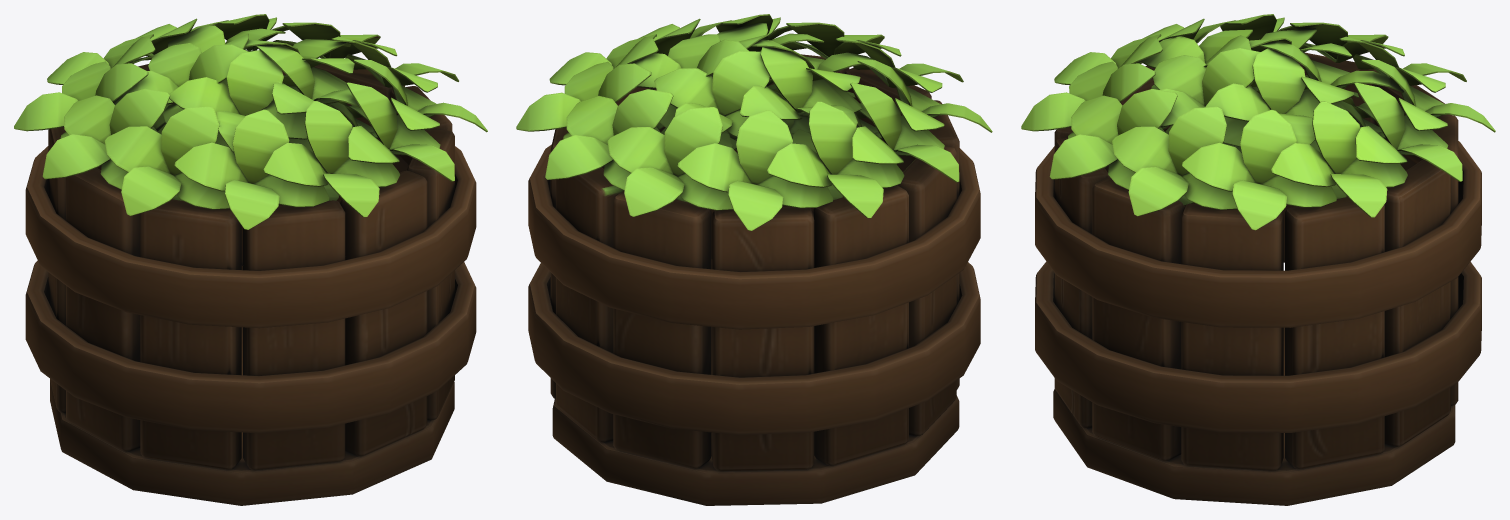
File: flowerpot.glb
3 views of the same model, side by side, from view 1: azimuth 30°, elevation 25°; view 2: azimuth 150°, elevation 25°; view 3: azimuth 270°, elevation 25° (orthographic).
Visible parts, largest first — view 1: FlowerPot; view 2: FlowerPot; view 3: FlowerPot.
Part boxes in pixels (box(x1,y1,x2,y2)): FlowerPot: box(14, 14, 487, 505); FlowerPot: box(516, 14, 992, 505); FlowerPot: box(1021, 14, 1495, 505).
Size of the model in its own units: 0.644 by 0.5628 by 0.644.
Materials: 1 (1 with a texture image).
